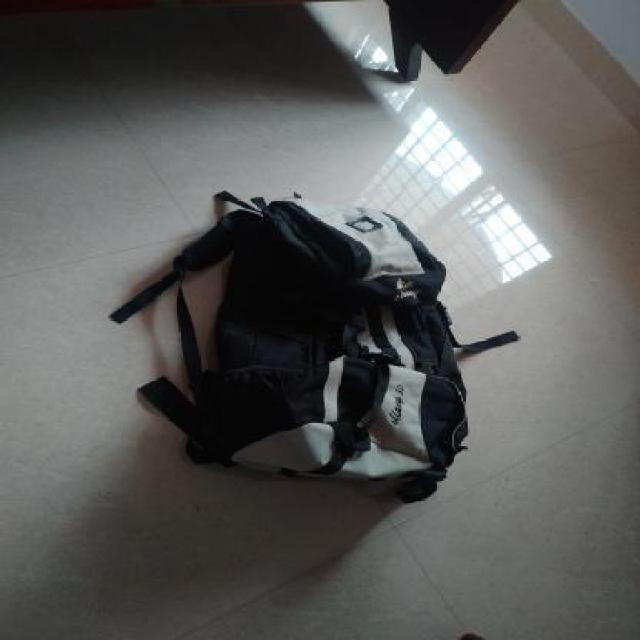backpack: (168, 188, 477, 508)
